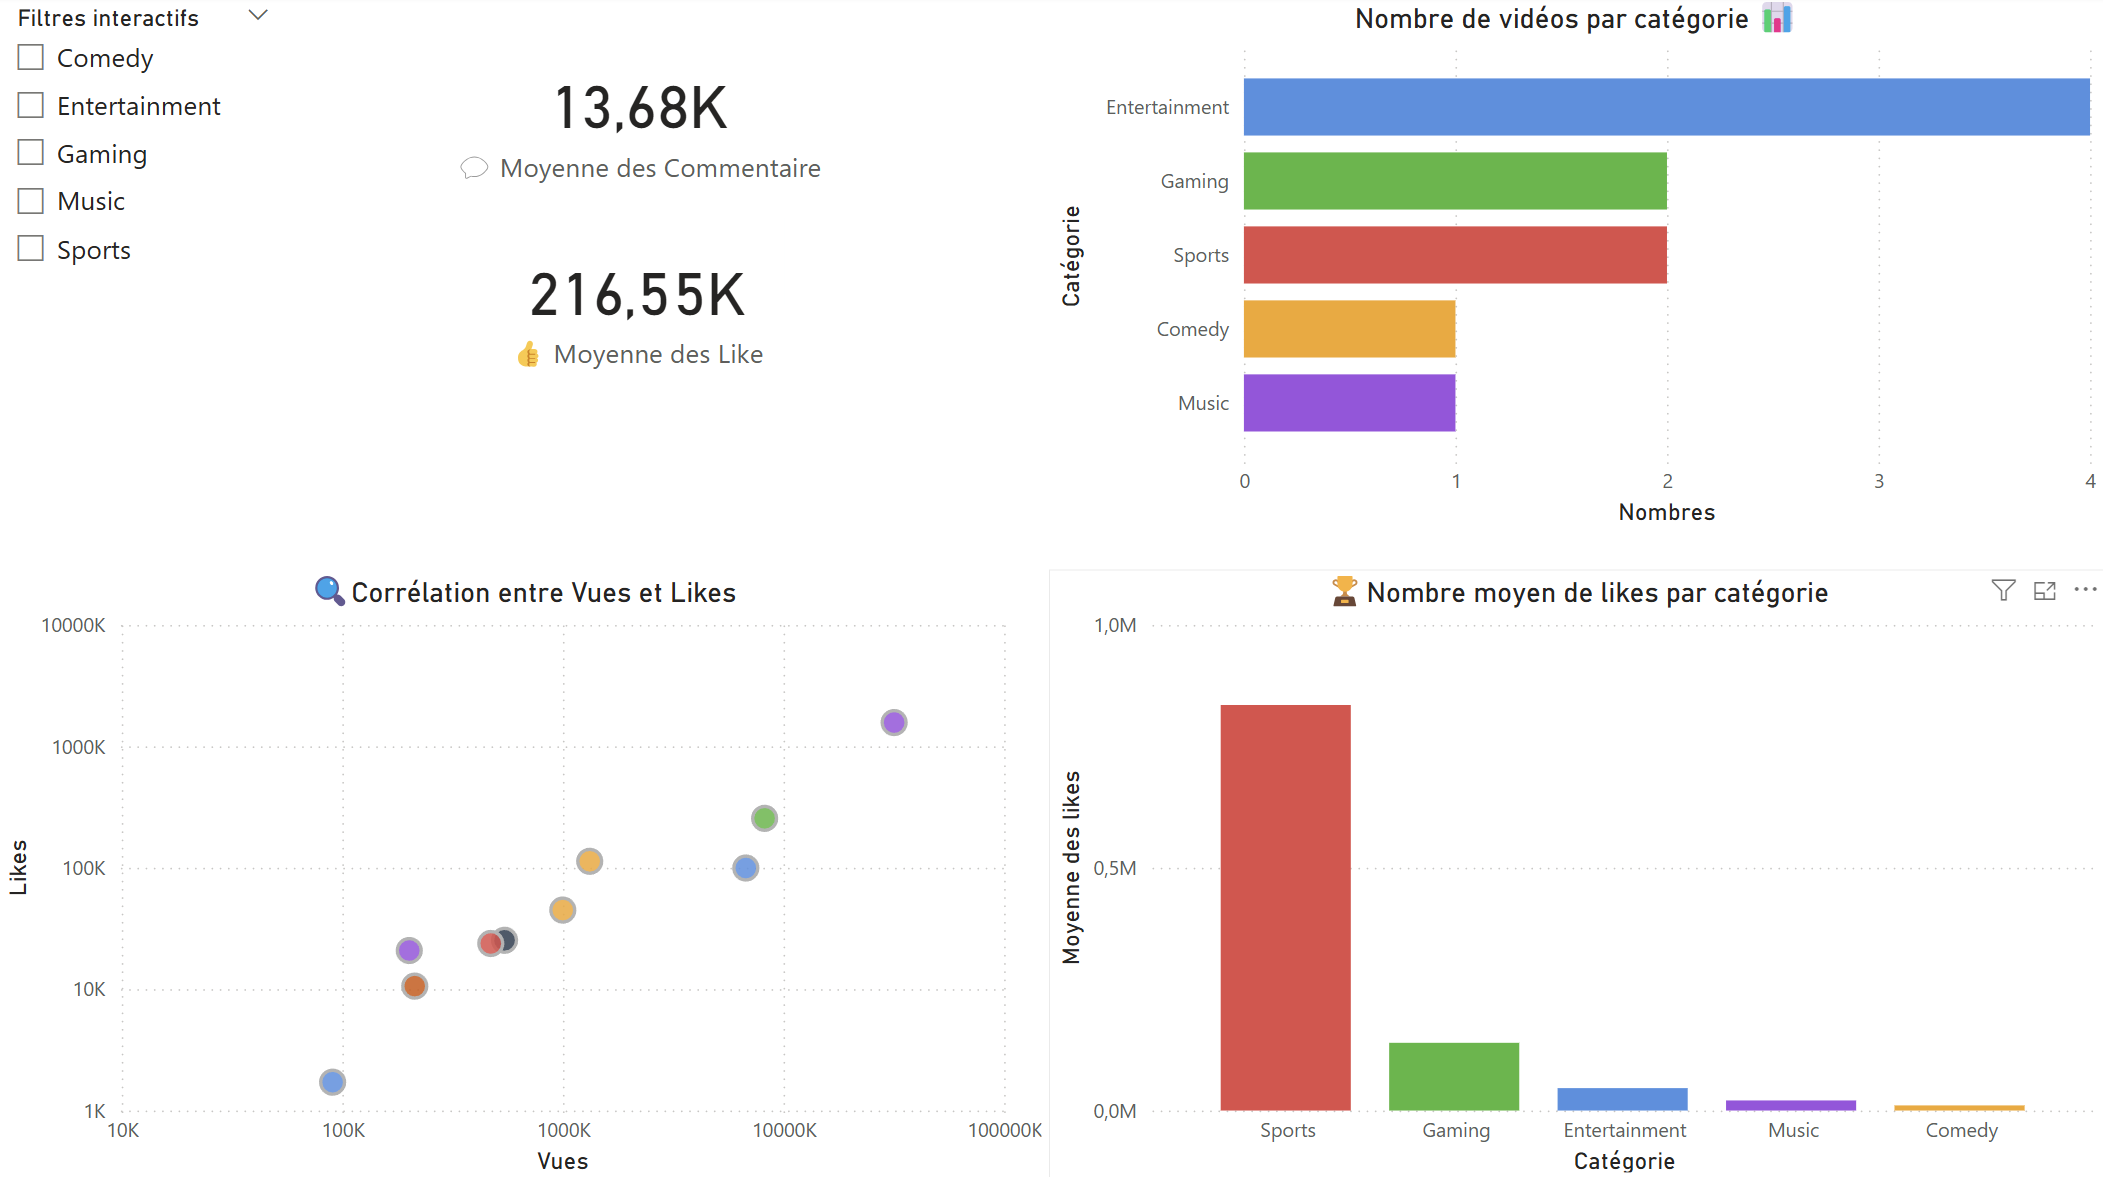

The dashboard page shown, as its layout file describes it:
{"tool":"powerbi","page":{"name":"Analyse des catégories et des créateurs","canvas":[1280,720],"ordinal":1},"visuals":[{"type":"scatterChart","title":" 🔍Corrélation entre Vues et Likes","fields":{"X":["Sum(youtube_trending_data.views)"],"Y":["Sum(youtube_trending_data.likes)"],"Series":["youtube_trending_data.titre"]},"box":[0,349,639.7,371.1],"z":1},{"type":"slicer","fields":{"Values":["youtube_trending_data.categorie"]},"box":[0,0,178,180],"z":2},{"type":"clusteredBarChart","title":"Nombre de vidéos par catégorie 📊","fields":{"Category":["youtube_trending_data.categorie"],"Y":["youtube_trending_data.Nombre_Videos"]},"box":[639.7,0,640.7,325.9],"z":3},{"type":"columnChart","title":" 🏆Nombre moyen de likes par catégorie","fields":{"Category":["youtube_trending_data.categorie"],"Y":["Avg(youtube_trending_data.likes)"]},"box":[639.7,349,640.7,371.1],"z":4},{"type":"card","fields":{"Values":["youtube_trending_data.Moyenne_Comments"]},"box":[267.5,30.2,244.4,90.5],"z":5},{"type":"card","fields":{"Values":["youtube_trending_data.Moyenne_Likes"]},"box":[298.7,135.8,180,105.6],"z":6}]}

Visuals, with their boxes in screenshot pixels (x1, y1, x2, y2), scaled from the page's 1280x720 canvas onto the 2103x1177 screenshot:
" 🔍Corrélation entre Vues et Likes" scatterChart: bbox=[0, 571, 1051, 1176]
slicer - youtube_trending_data.categorie: bbox=[0, 0, 292, 294]
"Nombre de vidéos par catégorie 📊" clusteredBarChart: bbox=[1051, 0, 2102, 533]
" 🏆Nombre moyen de likes par catégorie" columnChart: bbox=[1051, 571, 2102, 1176]
card - youtube_trending_data.Moyenne_Comments: bbox=[439, 49, 841, 197]
card - youtube_trending_data.Moyenne_Likes: bbox=[491, 222, 786, 395]
